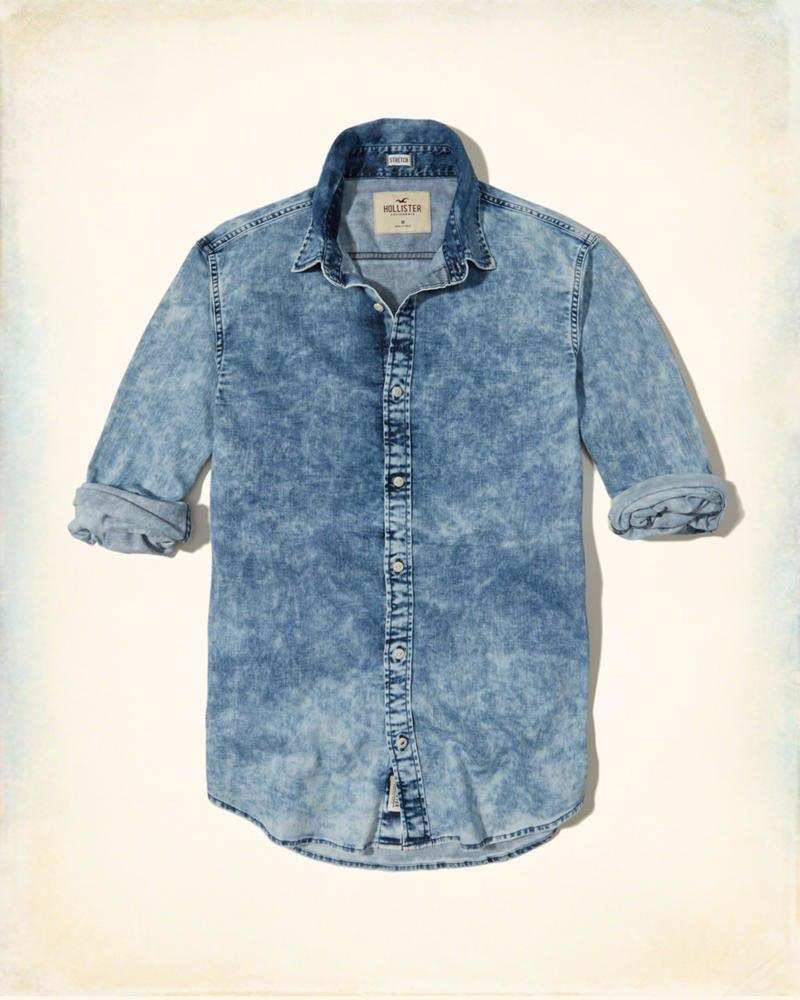teeshirt: (77, 116, 742, 877)
